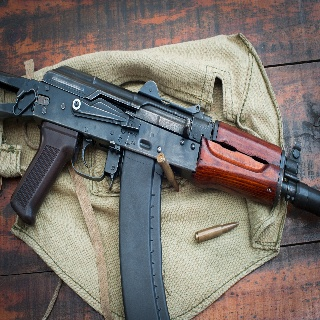rifle: (1, 62, 320, 320)
